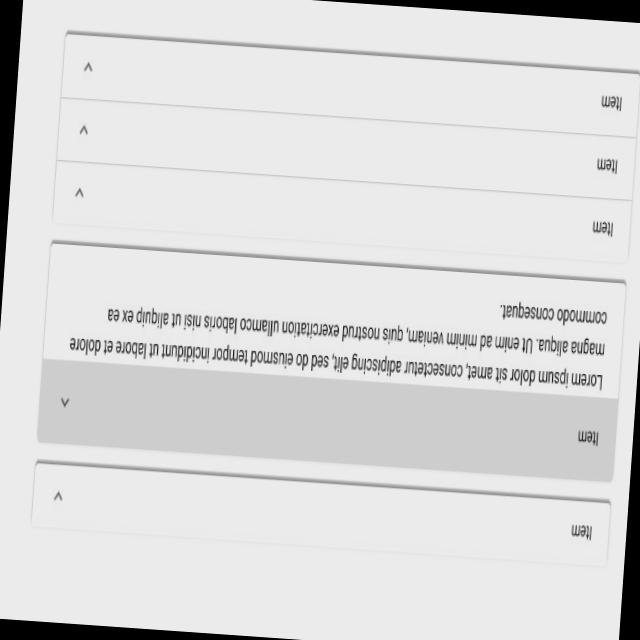VExpansionPanels: (35, 239, 626, 482), (50, 27, 640, 264), (29, 458, 610, 565)
